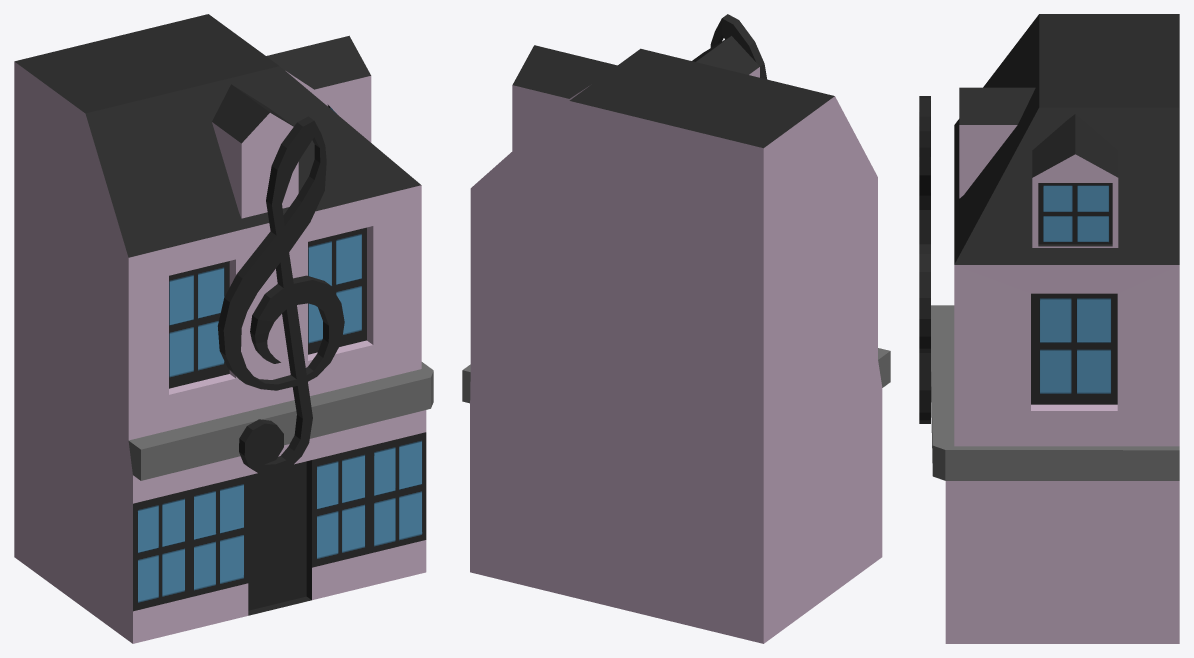
The model's file is MAINSHOP.obj.
3 renders of one model, left to right at view 1: azimuth 30°, elevation 25°; view 2: azimuth 150°, elevation 25°; view 3: azimuth 270°, elevation 25°, orthographic.
Parts seen in each view (by area): view 1: SKLEPGLOWNY; view 2: SKLEPGLOWNY; view 3: SKLEPGLOWNY.
Boxes of the visible parts, x1,y1,x2,y2 form: SKLEPGLOWNY: (14,14,433,643); SKLEPGLOWNY: (462,14,890,643); SKLEPGLOWNY: (919,14,1179,643).
Size of the model in its own units: 5.13 by 8.07 by 3.9.
1 material, 1 textured.
